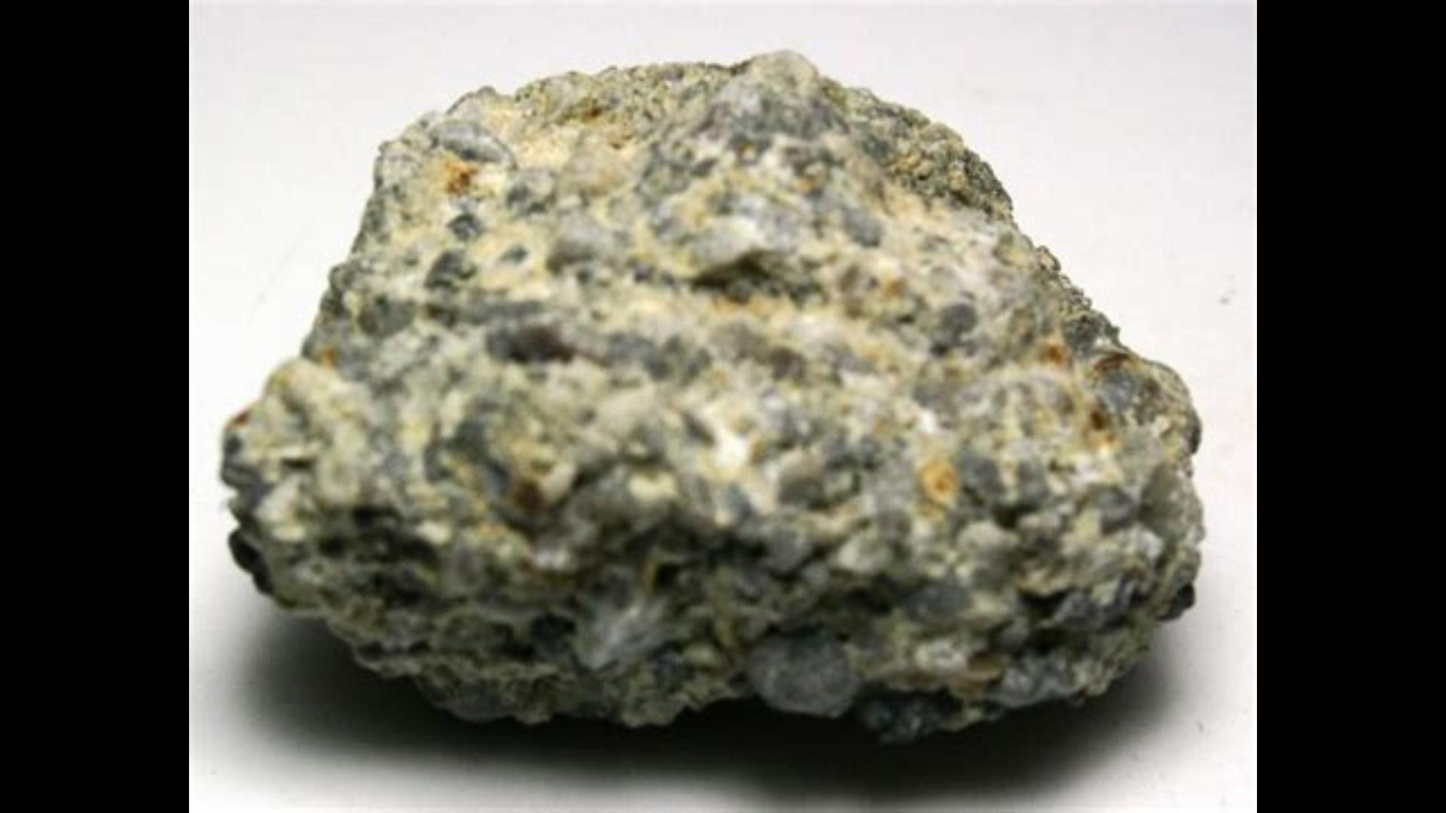rock: (223, 54, 1196, 739)
